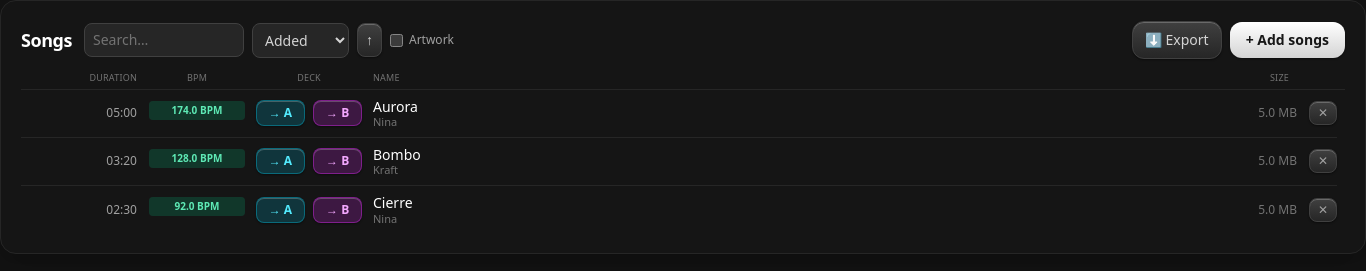
Test: búsqueda › avisa cuando no hay coincidencias
The width and height of the screenshot is (1366, 271).
Type "zzz" into the search field with placeholder "Search…". click: (164, 40)
box: [84,23,244,57]
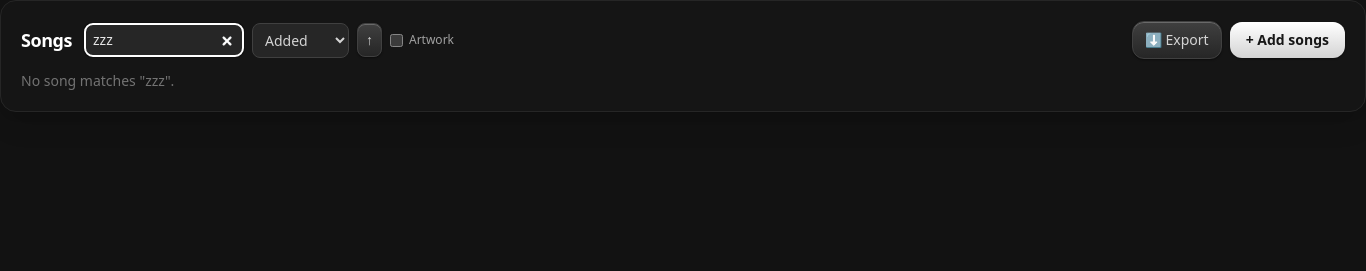
Check: no list items are shown
